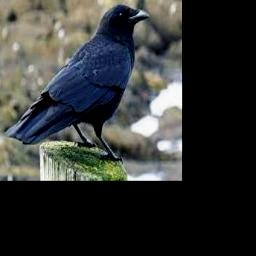Crow: (4, 3, 148, 162)
